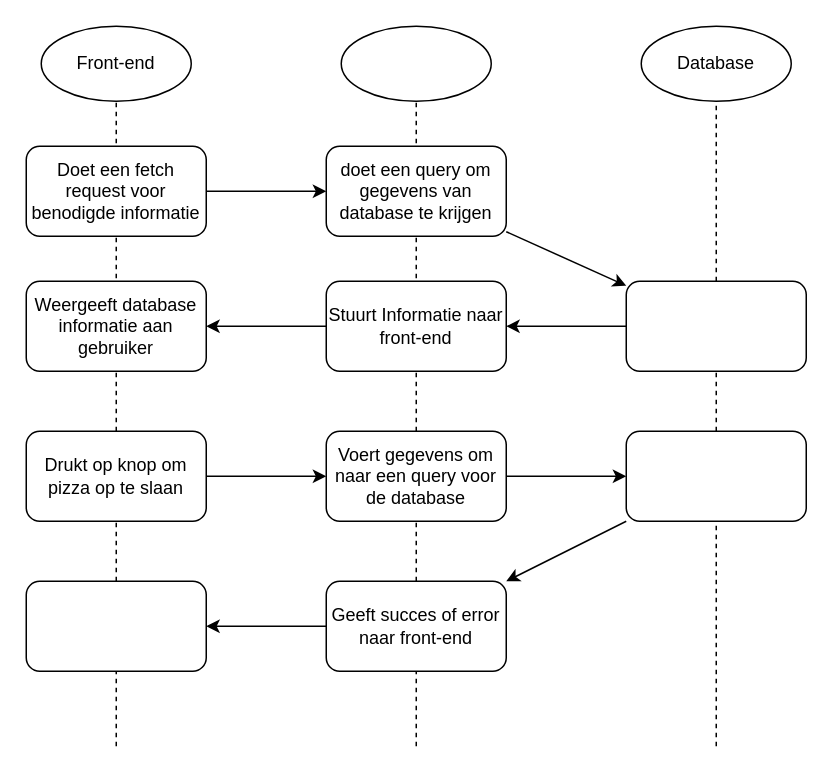
This 833x774 diagram has some shape labels left out. The centre of each missing label's shape, as x and y in pixels:
"Back-end" belongs at pixel 415 63.
"Geeft backend benodigde informatie" belongs at pixel 715 325.
"Slaat gekregen informatie op" belongs at pixel 715 475.
"Weergeeft succes of error naar de gebruiker" belongs at pixel 115 625.
